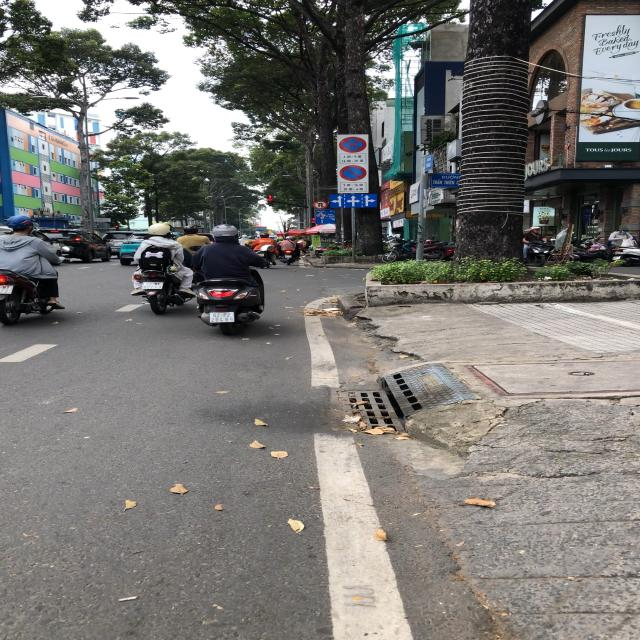Bien bao cam do xe: (335, 163, 370, 184)
Bien bao cam dung xe va do xe: (335, 135, 366, 155)
Bien bao cam quay dau xe: (313, 200, 326, 210)
